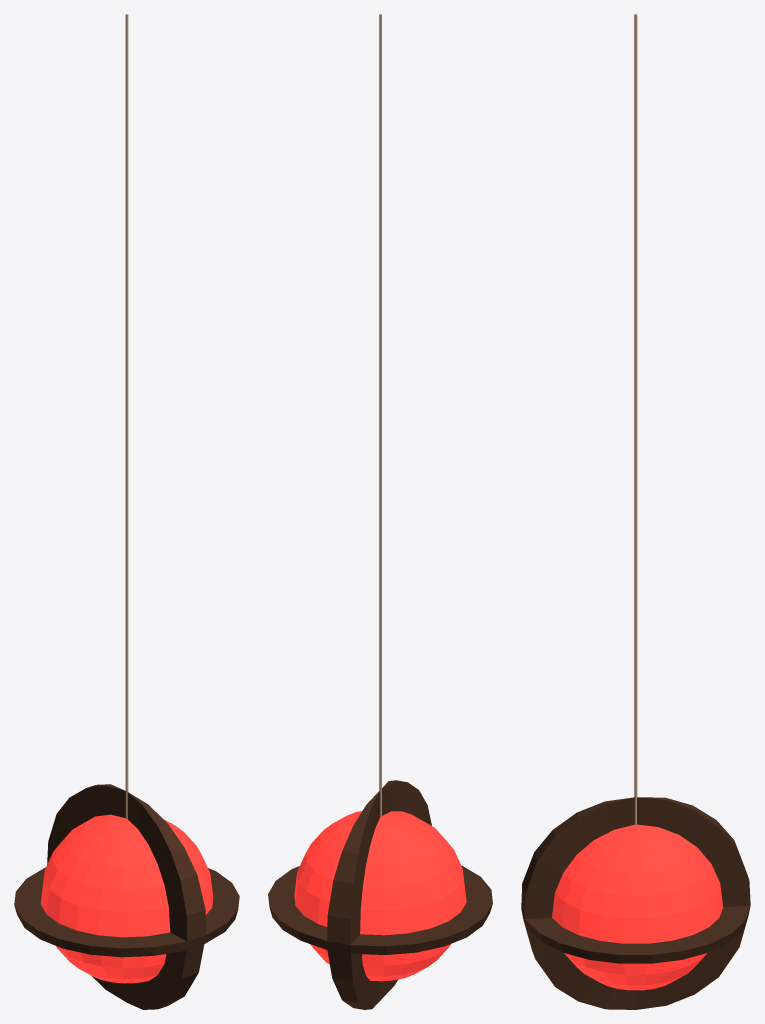
Rendered from Luce 2 Rossa .fbx.
3 renders of one model, left to right at view 1: azimuth 30°, elevation 25°; view 2: azimuth 150°, elevation 25°; view 3: azimuth 270°, elevation 25°, orthographic.
Visible parts, largest first — view 1: Cylinder.382; view 2: Cylinder.382; view 3: Cylinder.382.
Part boxes in pixels (bbox=[...]): Cylinder.382: bbox=[14, 14, 239, 1009]; Cylinder.382: bbox=[268, 14, 492, 1009]; Cylinder.382: bbox=[521, 14, 750, 1009].
Size of the model in its own units: 49.96 by 243 by 50.75.
